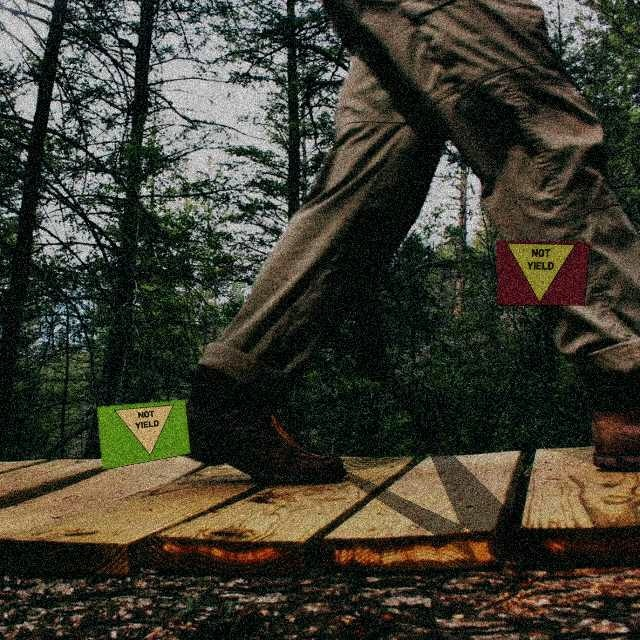NOT_YIELD: (506, 243, 576, 303), (113, 405, 180, 461)
